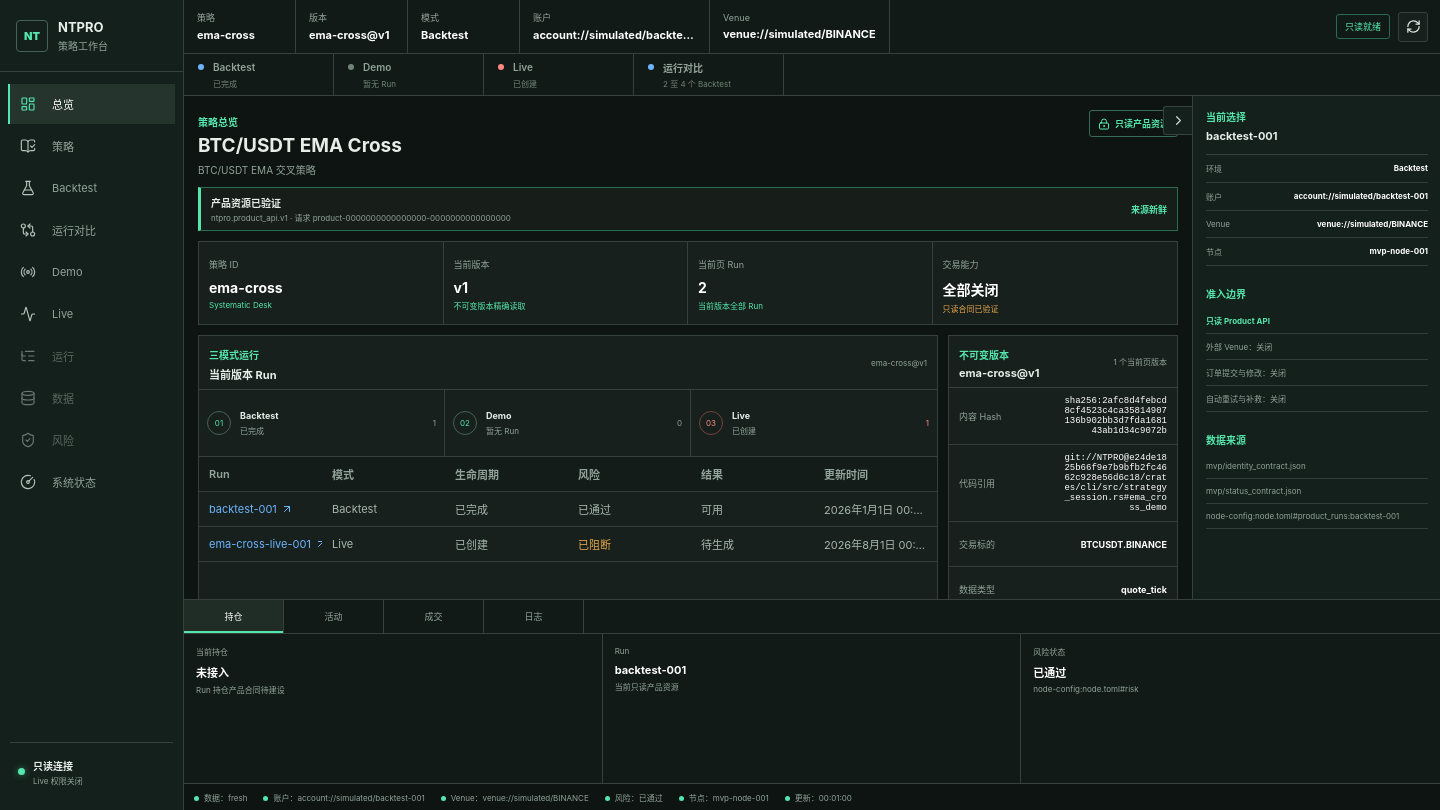
Scenario: strategy workbench product slice › opens the independent strategy page from the left navigation
The image size is (1440, 810).
Expected: the heading "BTC/USDT EMA Cross" is shown, [198,134,402,157]
Click the link "策略". click: (28, 146)
box: [20,138,74,154]
(page scrolled)
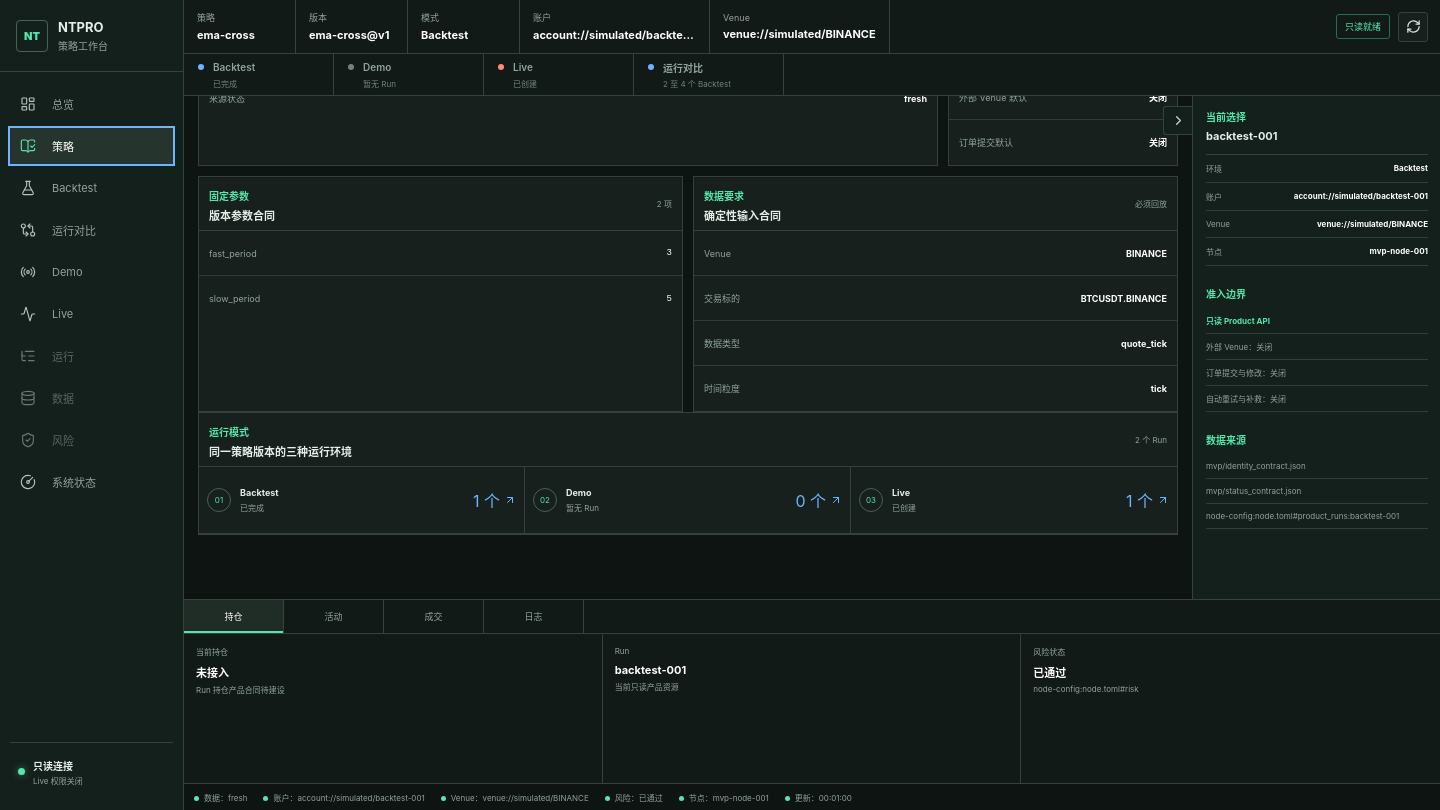
Expected: the element named "策略运行模式摘要" shows "Backtest", [240,487,279,498]
